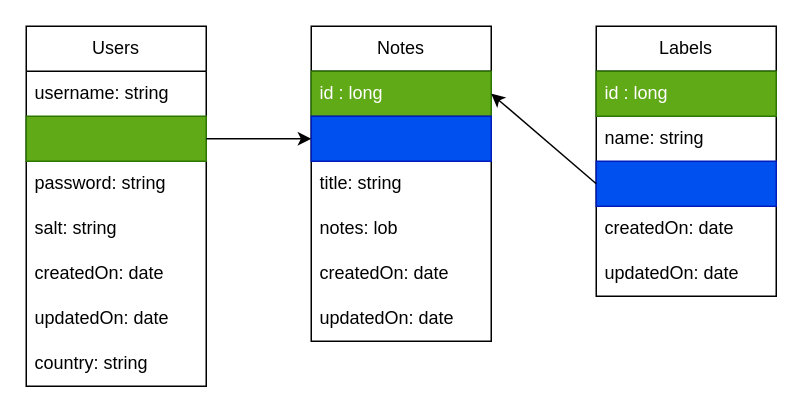
The diagram is 803 pixels wide and 413 high, and some of its shapes have lost their labels. Each missing label, with the centre of its shape:
createdBy: string: (400,138)
email: string: (115,138)
notesId: long: (685,183)
